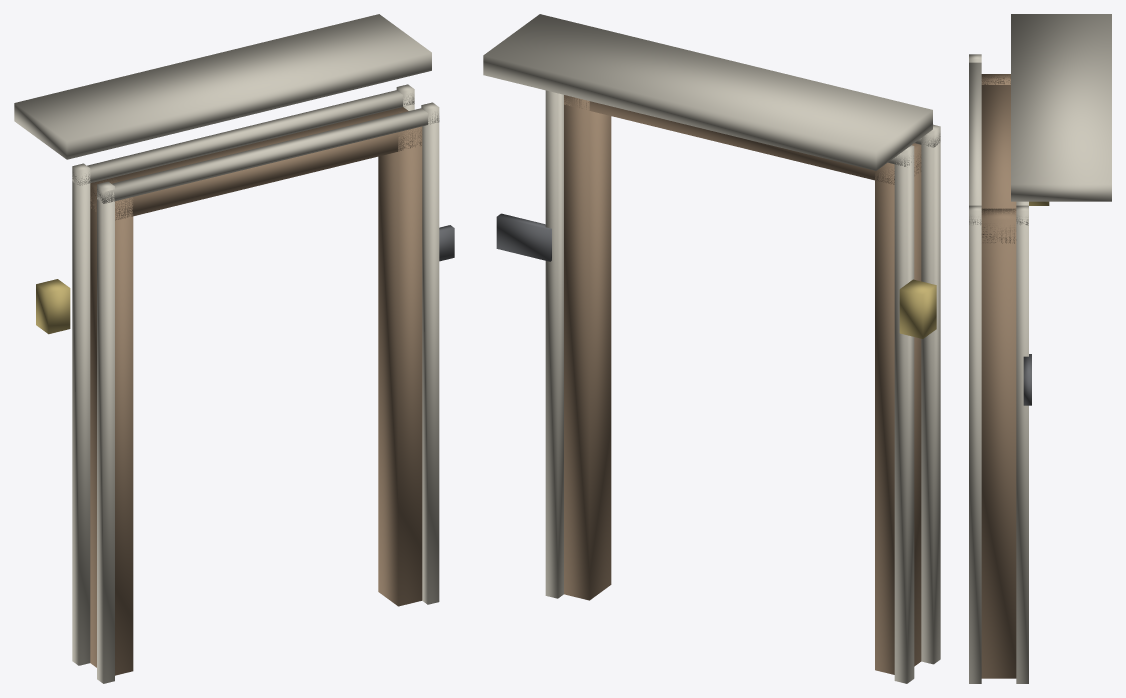
File: doorway_motel_w122_h200_d16.glb
3 renders of one model, left to right at view 1: azimuth 30°, elevation 25°; view 2: azimuth 150°, elevation 25°; view 3: azimuth 270°, elevation 25°, orthographic. The views are drawn at different scales.
Visible parts, largest first — view 1: world; view 2: world; view 3: world.
Boxes of the visible parts, bbox=[...] form: world: bbox=[14, 14, 454, 683]; world: bbox=[483, 14, 940, 683]; world: bbox=[969, 14, 1111, 683].
Size of the model in its own units: 1.86 by 2.33 by 0.5948.
